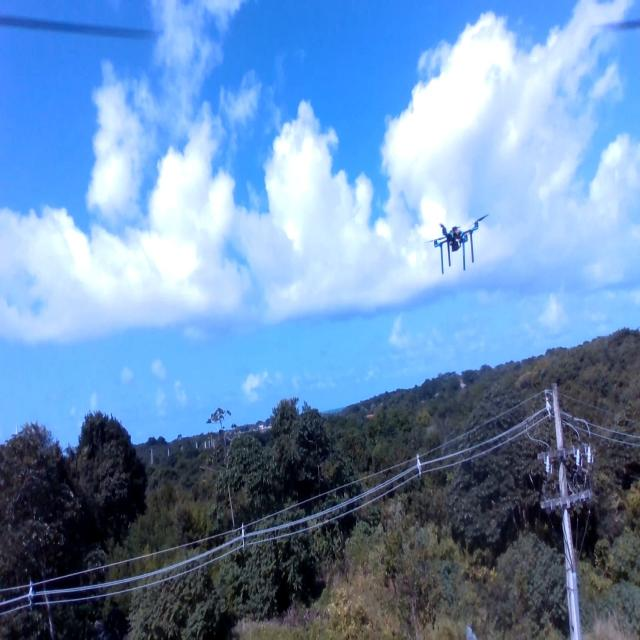-uav-: (418, 202, 494, 282)
